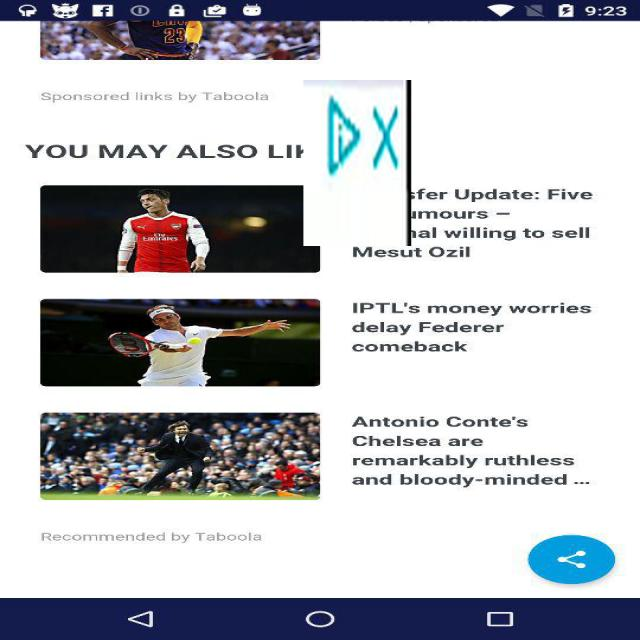sneaking: (304, 80, 412, 246)
